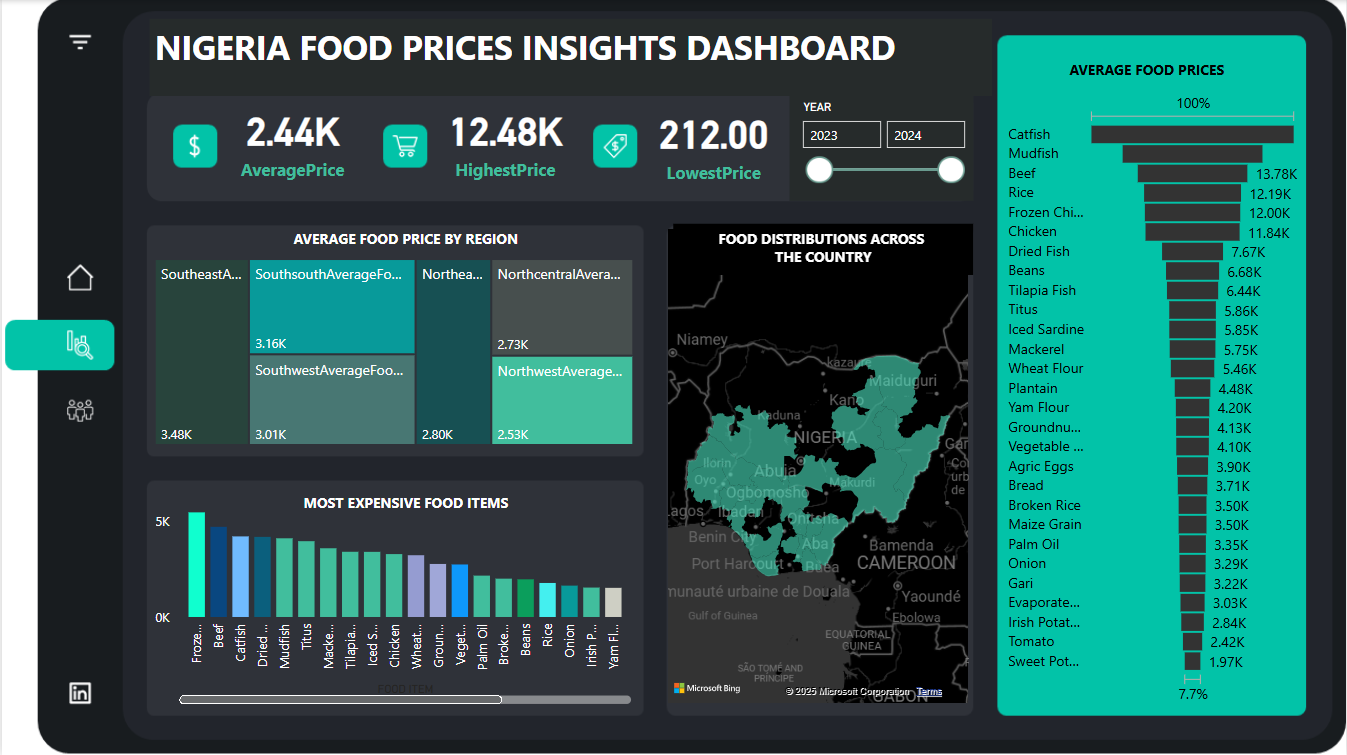

This screenshot's page, from the dashboard's own definition file:
{"tool":"powerbi","page":{"name":"Dashboard","canvas":[1280,720],"ordinal":0},"visuals":[{"type":"funnel","fields":{"Category":["FOOD ITEMS.FOOD ITEM","HIGHEST PRICES PER STATE.STATE"],"Y":["Sum(HIGHEST PRICES PER STATE.PRICE)"]},"box":[953.7,83.7,286.8,591.4],"z":0},{"type":"filledMap","fields":{"Category":["HIGHEST PRICES PER STATE.STATE"]},"box":[629.8,213.1,295.2,461.9],"z":1000},{"type":"columnChart","fields":{"Category":["FOOD ITEMS.FOOD ITEM"],"Y":["KPI.AveragePrice"]},"box":[140,463.8,463.8,211.3],"z":2000},{"type":"treemap","fields":{"Values":["KPI.NortheastAverageFoodPrice","KPI.NorthcentralAverageFoodPrice","KPI.SoutheastAverageFoodPrice","KPI.NorthwestAverageFoodPrice","KPI.SouthsouthAverageFoodPrice","KPI.SouthwestAverageFoodPrice"]},"box":[141.3,242.9,463.8,185.2],"z":3000},{"type":"card","fields":{"Values":["KPI.AveragePrice"]},"box":[208.6,83.7,137.2,100.2],"z":4000},{"type":"textbox","box":[140.5,17.9,802.4,73.8],"z":5000},{"type":"textbox","box":[273.1,212.7,234.6,30.2],"z":6000},{"type":"textbox","box":[953.7,52.1,277.2,50.8],"z":8000},{"type":"textbox","box":[282.7,463.8,234.6,30.2],"z":9000},{"type":"card","fields":{"Values":["KPI.HighestPrice"]},"box":[391.1,83.7,175.6,100.2],"z":10000},{"type":"card","fields":{"Values":["KPI.LowestPrice"]},"box":[606.5,90.6,144.1,90.6],"z":11000},{"type":"textbox","box":[639.3,213.1,285.7,48.8],"z":12000},{"type":"slicer","fields":{"Values":["AVERAGE PRICES.YEAR"]},"box":[750,90.5,175,101.2],"z":12001}]}

Visuals, with their boxes on the page's 1280x720 design canvas (x1, y1, x2, y2). These are canvas units, not pixel positions in the 1347x755 screenshot, which may show the page scaled, cropped or inside an application window:
funnel - FOOD ITEMS.FOOD ITEM x HIGHEST PRICES PER STATE.STATE: x1=954, y1=84, x2=1240, y2=675
filledMap - HIGHEST PRICES PER STATE.STATE: x1=630, y1=213, x2=925, y2=675
columnChart - FOOD ITEMS.FOOD ITEM x KPI.AveragePrice: x1=140, y1=464, x2=604, y2=675
treemap - KPI.NortheastAverageFoodPrice x KPI.NorthcentralAverageFoodPrice: x1=141, y1=243, x2=605, y2=428
card - KPI.AveragePrice: x1=209, y1=84, x2=346, y2=184
textbox: x1=140, y1=18, x2=943, y2=92
textbox: x1=273, y1=213, x2=508, y2=243
textbox: x1=954, y1=52, x2=1231, y2=103
textbox: x1=283, y1=464, x2=517, y2=494
card - KPI.HighestPrice: x1=391, y1=84, x2=567, y2=184
card - KPI.LowestPrice: x1=606, y1=91, x2=751, y2=181
textbox: x1=639, y1=213, x2=925, y2=262
slicer - AVERAGE PRICES.YEAR: x1=750, y1=90, x2=925, y2=192
